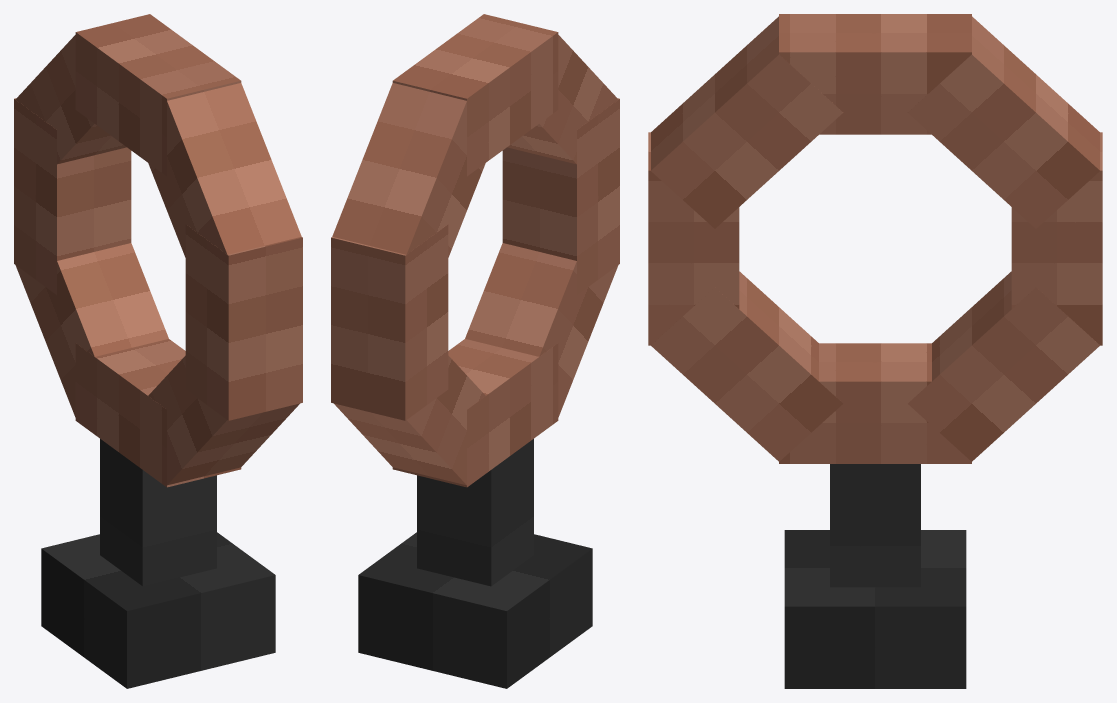
The model's file is energy_receiver.gltf.
3 renders of one model, left to right at view 1: azimuth 30°, elevation 25°; view 2: azimuth 150°, elevation 25°; view 3: azimuth 270°, elevation 25°, orthographic. The views are drawn at different scales.
Parts seen in each view (by area): view 1: Object 2 (×9), Object 1; view 2: Object 2 (×9), Object 1; view 3: Object 2 (×9), Object 1.
Boxes of the visible parts, box(x1,y1,x2,y2) form: Object 2 (×9): box(14, 14, 302, 586); Object 1: box(41, 532, 275, 688); Object 2 (×9): box(331, 14, 619, 586); Object 1: box(358, 532, 592, 688); Object 2 (×9): box(648, 14, 1102, 587); Object 1: box(784, 530, 966, 688).
Size of the model in its own units: 0.125 by 0.4688 by 0.3125.
